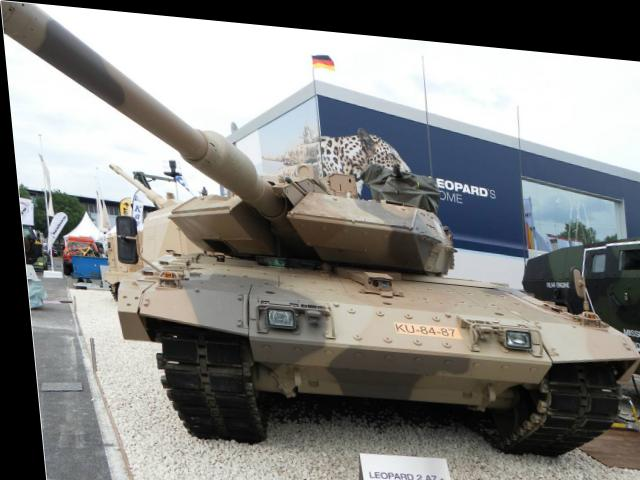other: (97, 76, 640, 473)
